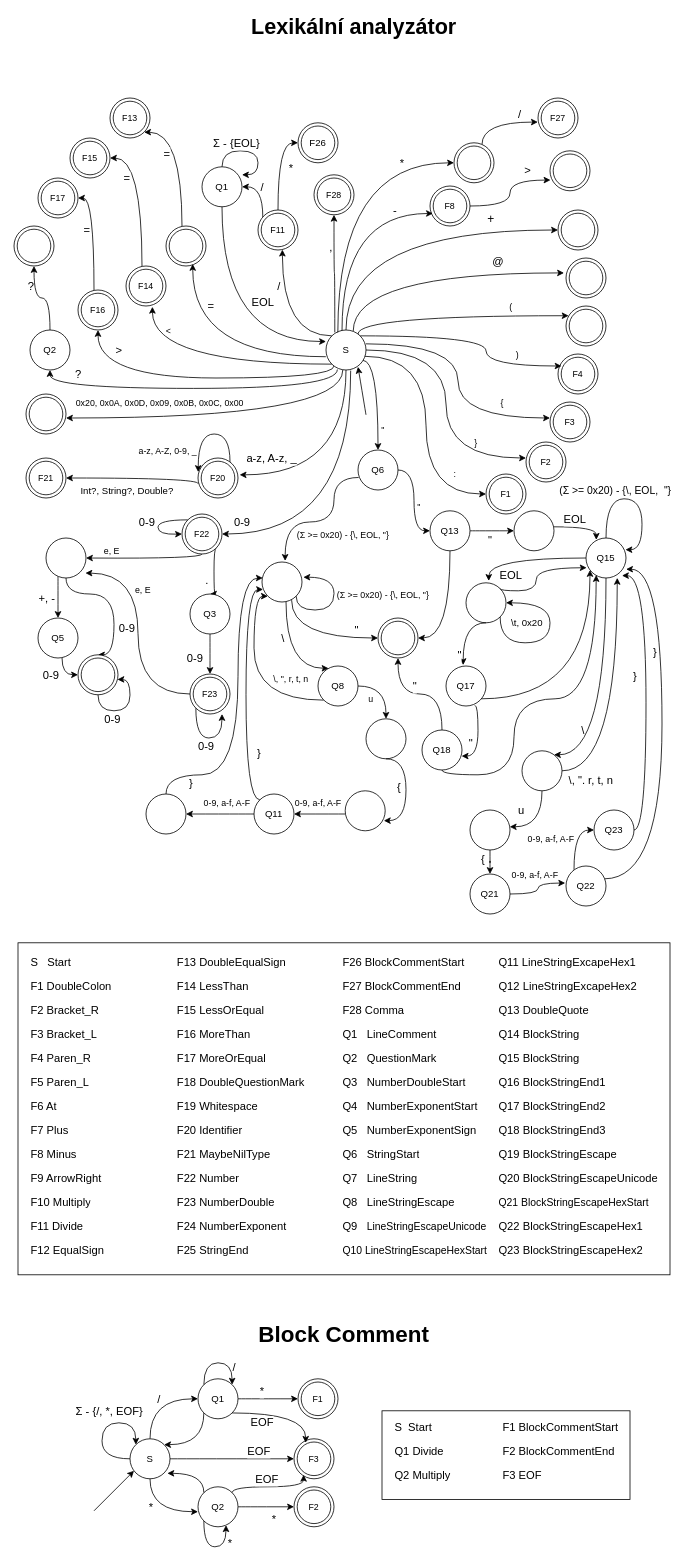
The diagram is 700 pixels wide and 1563 high, and some of its shapes have lost their labels. Each missing label, with the centre of its shape:
"F10" belongs at [473,162].
"F12" belongs at [185,245].
"F18" belongs at [33,245].
"F19" belongs at [45,413].
"F24" belongs at [97,674].
"F25" belongs at [397,637].
"F5" belongs at [585,325].
"F6" belongs at [585,277].
"F7" belongs at [577,229].
"F9" belongs at [569,170].
"Q10" belongs at [364,810].
"Q12" belongs at [165,813].
"Q14" belongs at [533,530].
"Q16" belongs at [485,602].
"Q19" belongs at [541,770].
"Q20" belongs at [489,829].
"Q4" belongs at [65,557].
"Q7" belongs at [281,581].
"Q9" belongs at [385,738].
